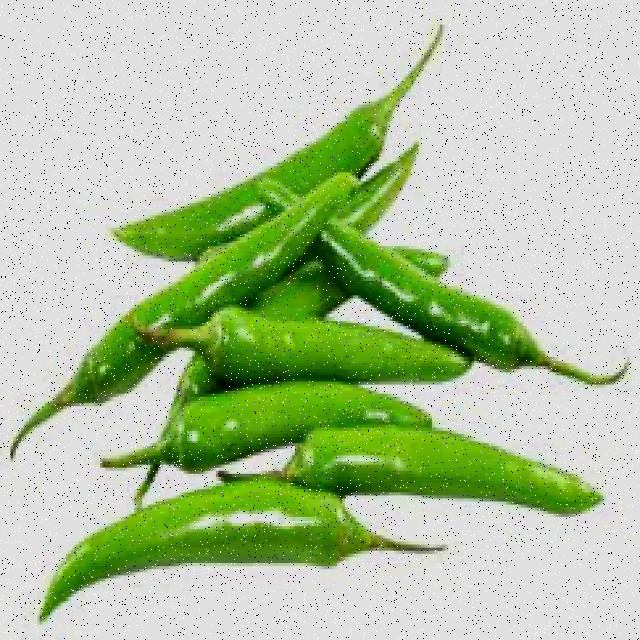Chili Pepper: (99, 82, 640, 607), (159, 120, 622, 332), (139, 281, 493, 413), (39, 490, 383, 601), (297, 420, 628, 520)
